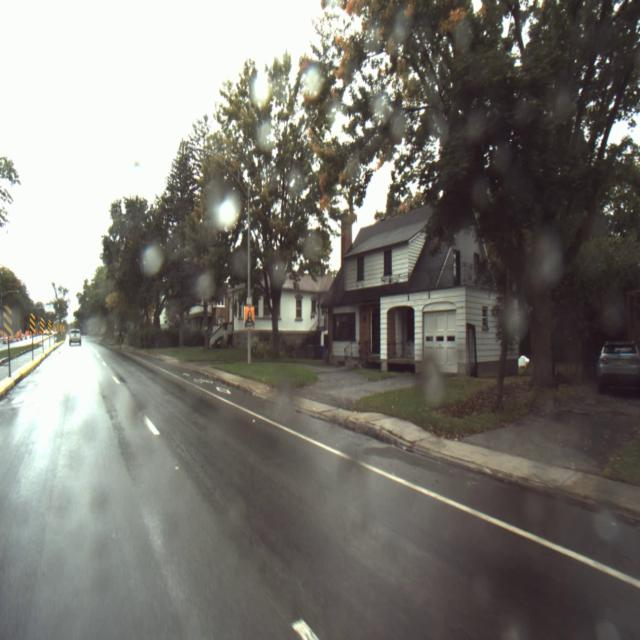car: (597, 340, 638, 393), (69, 328, 82, 345)
